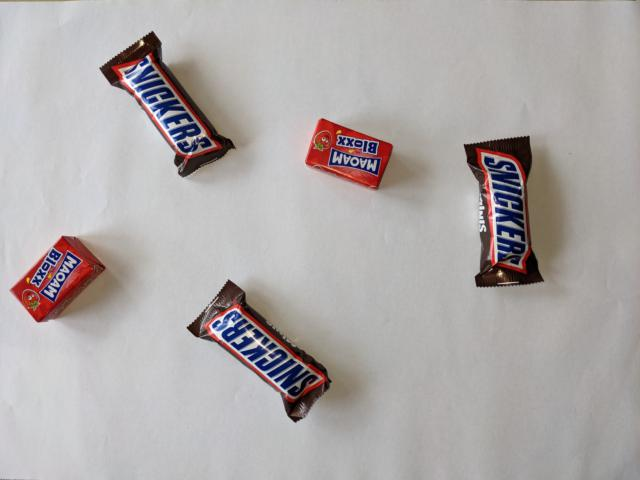MAOAM: (8, 234, 107, 325), (301, 116, 395, 194)
Snickers: (184, 275, 334, 426), (97, 28, 238, 179), (462, 131, 547, 290)
